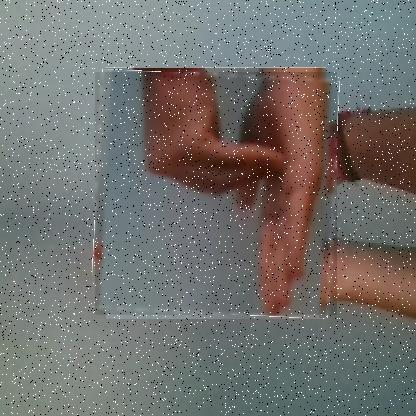Z: (94, 72, 337, 316)
